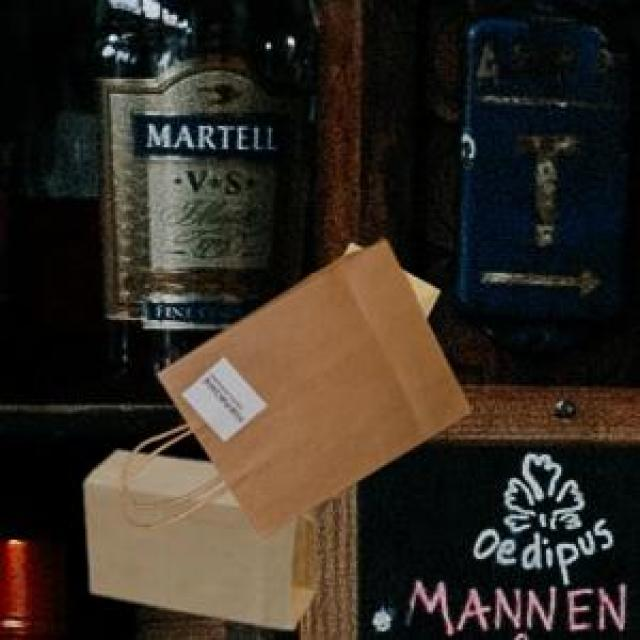Paper -Biodegradable-: (159, 241, 471, 538), (86, 443, 314, 630)
